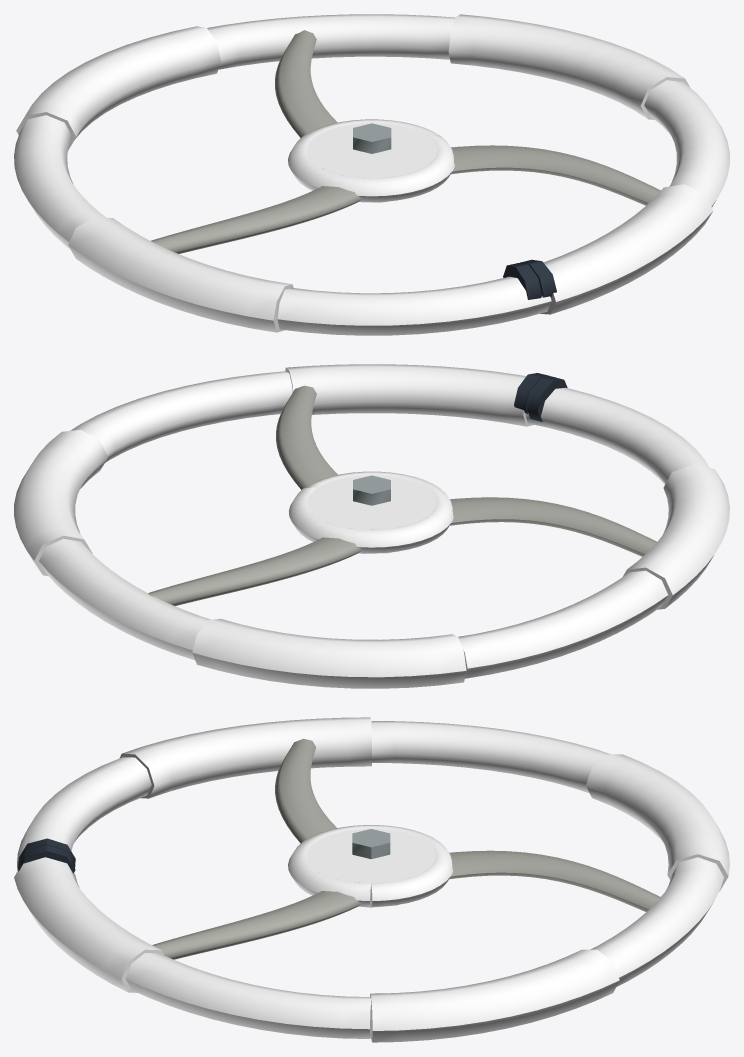
Rendered from Wheel_07_N_生成・紅緒.glb.
3 renders of one model, top to bottom at view 1: azimuth 30°, elevation 25°; view 2: azimuth 150°, elevation 25°; view 3: azimuth 270°, elevation 25°, orthographic.
Parts seen in each view (by area): view 1: Wheel_07_N; view 2: Wheel_07_N; view 3: Wheel_07_N.
Part boxes in pixels (box(x1,y1,x2,y2)): Wheel_07_N: box(14, 14, 729, 335); Wheel_07_N: box(14, 364, 729, 688); Wheel_07_N: box(14, 717, 729, 1042).
Bounding box in the file's own units: 0.326 × 0.0299 × 0.3265.
Materials: 4 (4 with a texture image).
